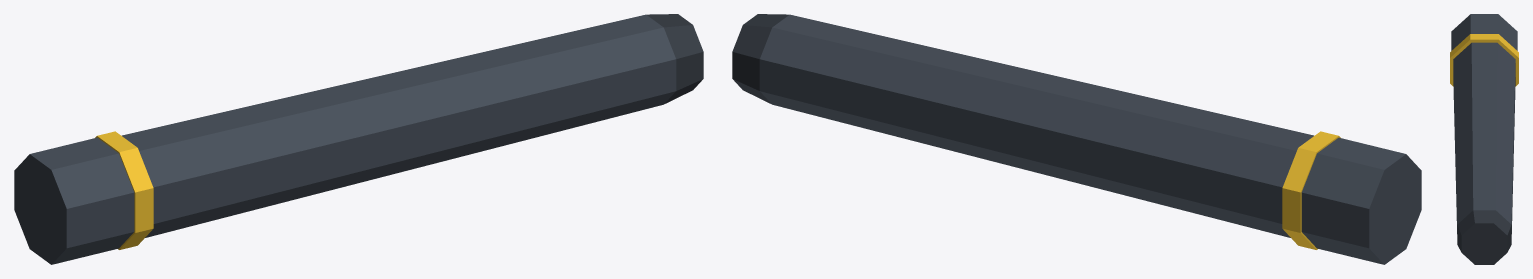
Rendered from barrel_bull.glb.
3 views of the same model, side by side, from view 1: azimuth 30°, elevation 25°; view 2: azimuth 150°, elevation 25°; view 3: azimuth 270°, elevation 25° (orthographic). The views are drawn at different scales.
Parts seen in each view (by area): view 1: barrel_bull; view 2: barrel_bull; view 3: barrel_bull.
Part boxes in pixels (<box>): barrel_bull: <box>14,14,703,264</box>; barrel_bull: <box>732,14,1421,264</box>; barrel_bull: <box>1450,14,1518,264</box>.
Size of the model in its own units: 0.21 by 0.0305 by 0.0305.
